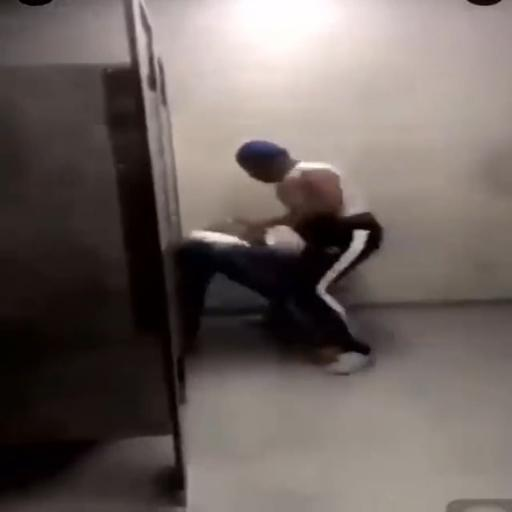violencia: (147, 132, 400, 384)
